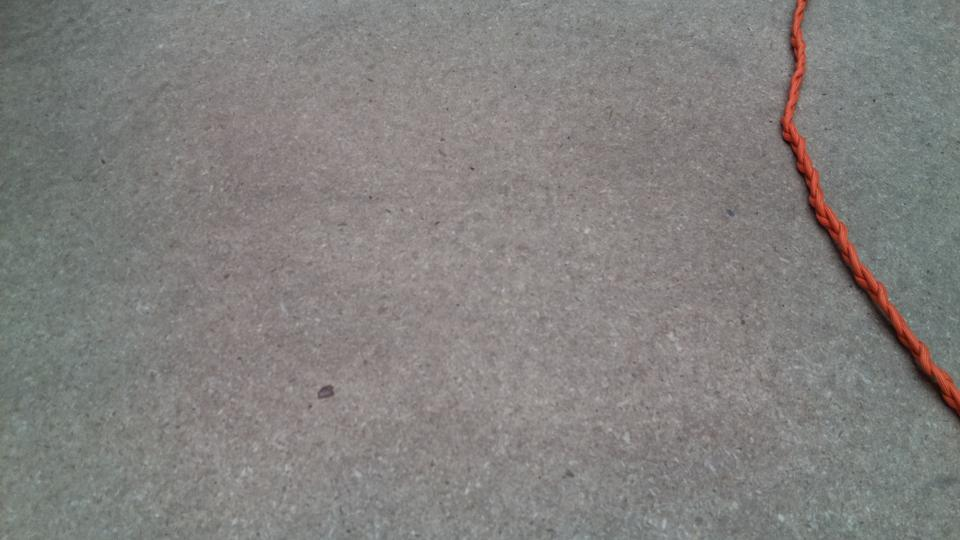rope: (775, 1, 959, 414)
